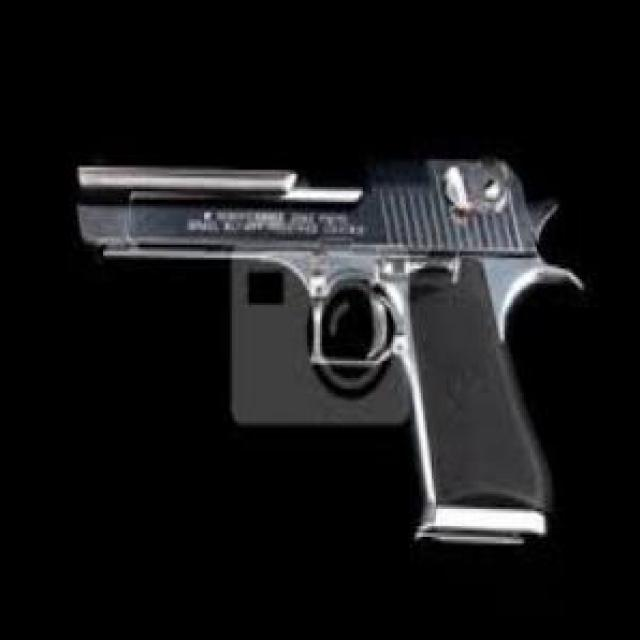pistol: (73, 157, 588, 552)
